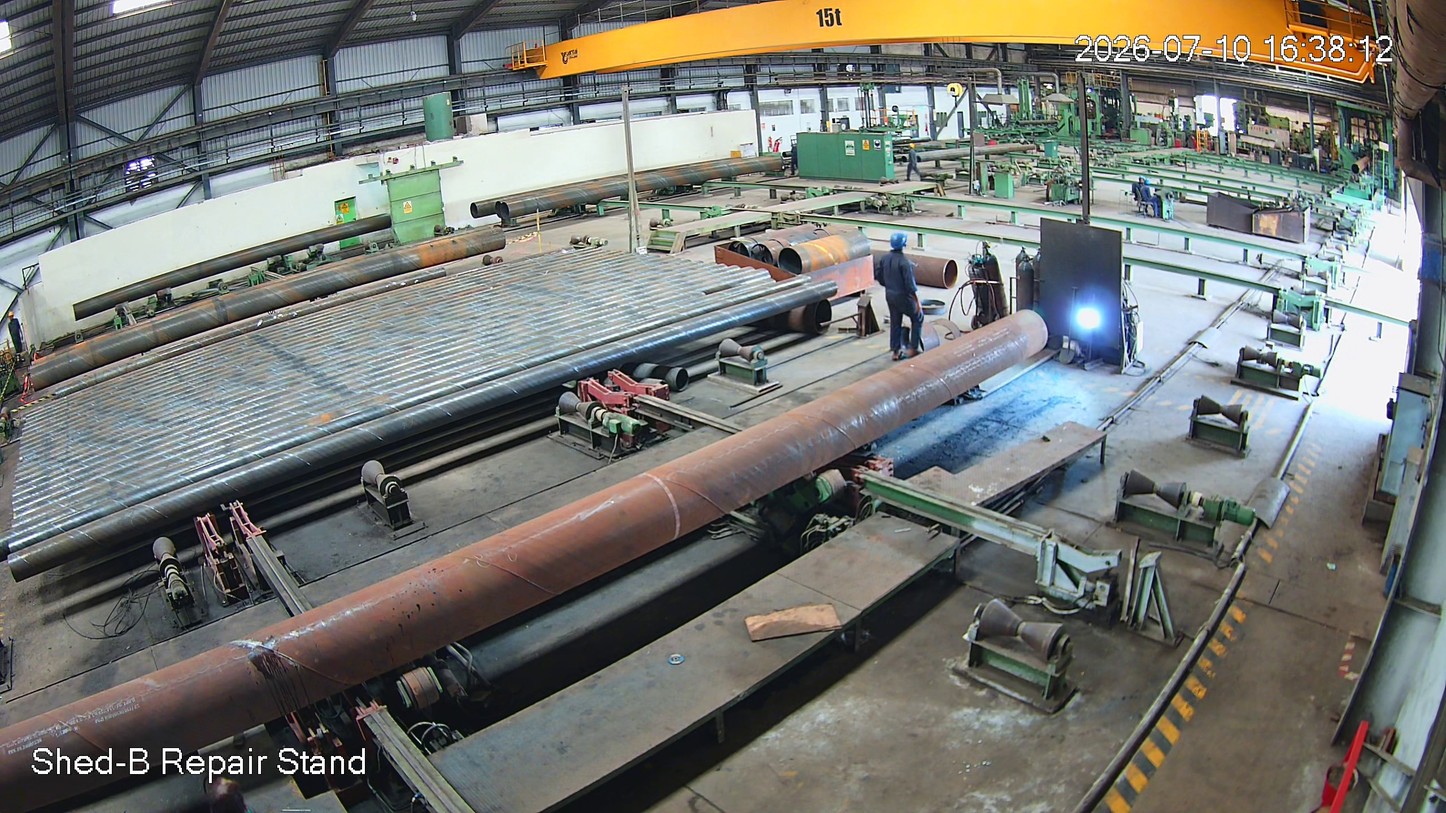Helmet: (890, 227, 920, 255)
Person: (878, 233, 928, 365)
